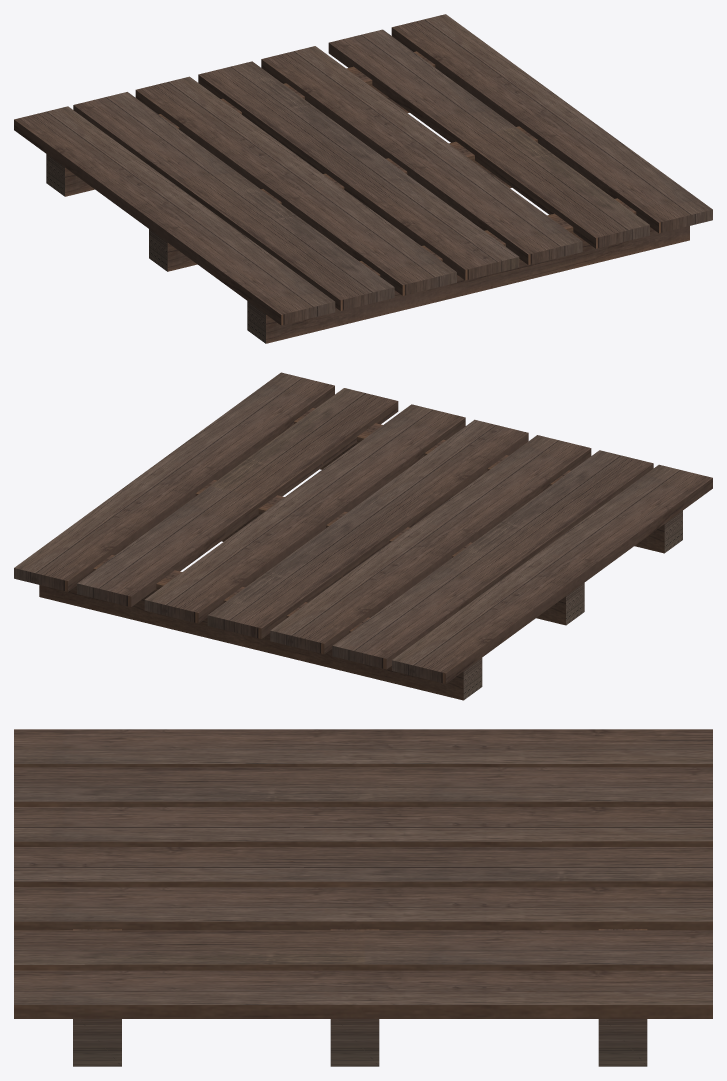
File: jov_sunoko0x0t.fbx
3 renders of one model, top to bottom at view 1: azimuth 30°, elevation 25°; view 2: azimuth 150°, elevation 25°; view 3: azimuth 270°, elevation 25°, orthographic. The views are drawn at different scales.
Visible parts, largest first — view 1: jov_sunoko0x0t; view 2: jov_sunoko0x0t; view 3: jov_sunoko0x0t.
Part boxes in pixels (<box>): jov_sunoko0x0t: <box>14,14,712,343</box>; jov_sunoko0x0t: <box>14,372,712,700</box>; jov_sunoko0x0t: <box>14,729,712,1066</box>.
Bounding box in the file's own units: 106 × 11.03 × 113.
